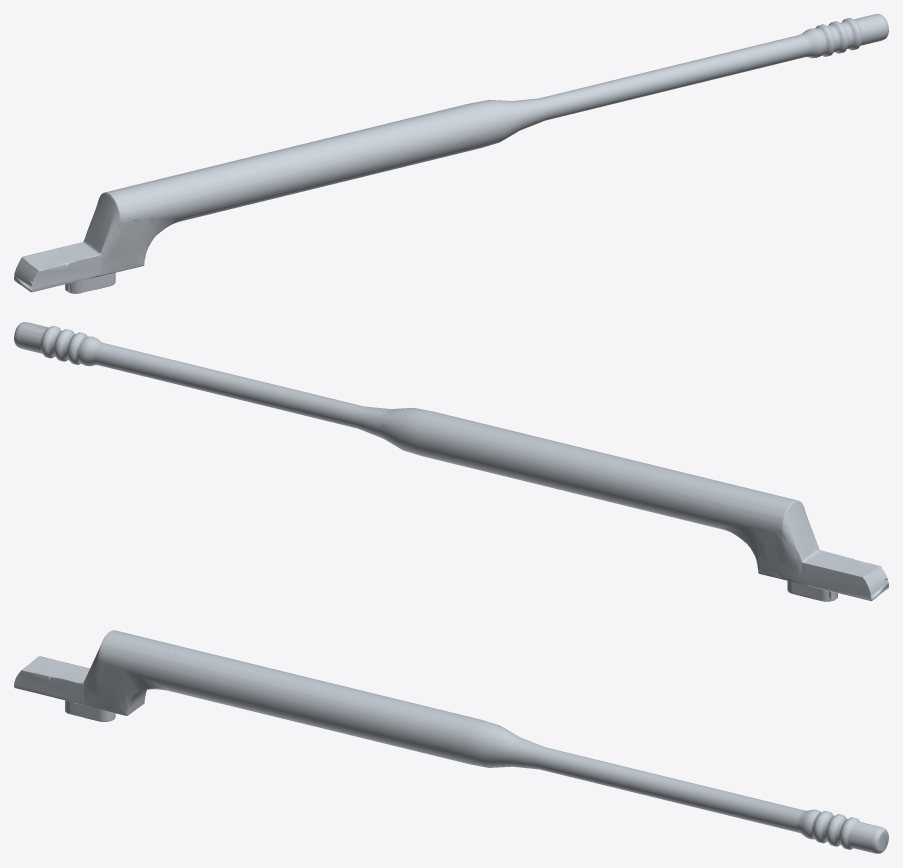
Rendered from 04_GasRod_UVReady.fbx.
3 views of the same model, one above another, from view 1: azimuth 30°, elevation 25°; view 2: azimuth 150°, elevation 25°; view 3: azimuth 330°, elevation 25° (orthographic).
Parts seen in each view (by area): view 1: 04_GasRod; view 2: 04_GasRod; view 3: 04_GasRod.
Boxes of the visible parts, left/top/right/bottom form: 04_GasRod: left=14, top=14, right=888, bottom=293; 04_GasRod: left=14, top=322, right=888, bottom=601; 04_GasRod: left=14, top=630, right=888, bottom=853.
Size of the model in its own units: 0.372 by 0.036 by 0.0173.
1 material, 1 textured.
